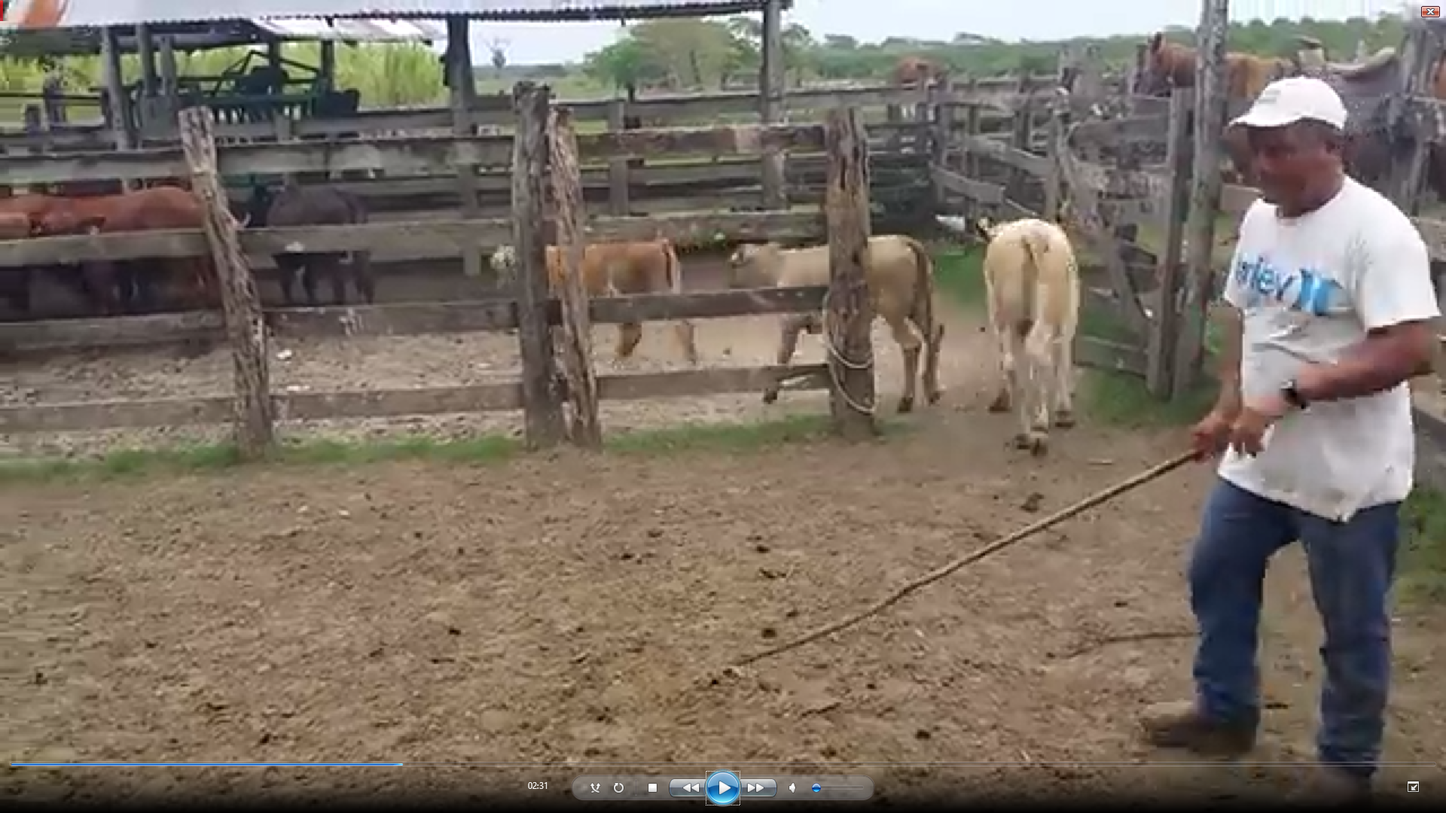bovino: (982, 213, 1088, 453)
